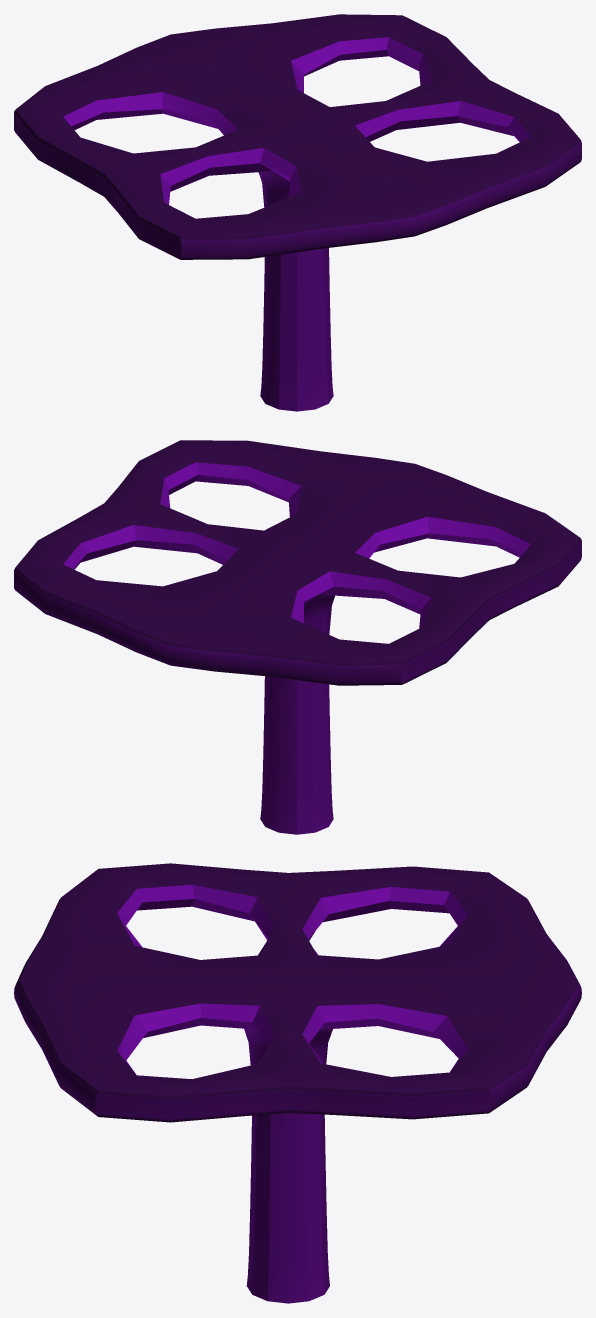
The picture shows the model from 3 angles, top to bottom: view 1: azimuth 30°, elevation 25°; view 2: azimuth 150°, elevation 25°; view 3: azimuth 270°, elevation 25°; orthographic projection. The views are drawn at different scales.
Parts seen in each view (by area): view 1: Cube; view 2: Cube; view 3: Cube.
Boxes of the visible parts, <box> form: Cube: <box>14,14,581,411</box>; Cube: <box>14,440,581,834</box>; Cube: <box>14,863,581,1303</box>.
Size of the model in its own units: 2.55 by 1.57 by 2.62.
Materials: 1 (1 with a texture image).
